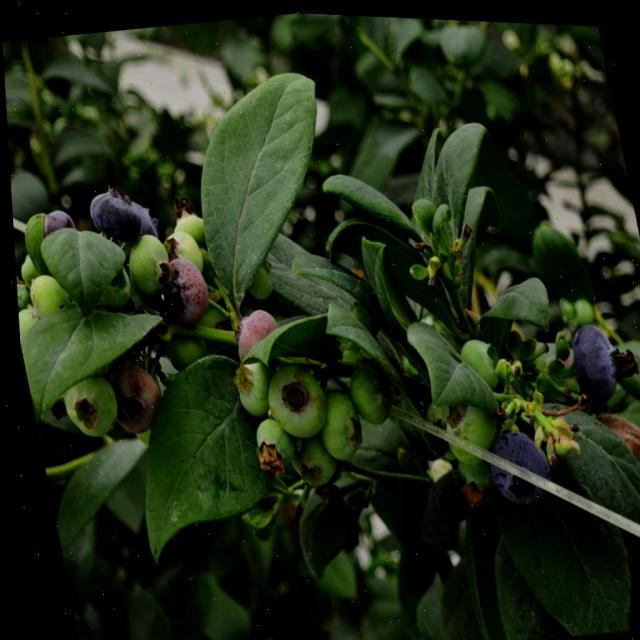RipeBlueBerry: (479, 420, 555, 508), (560, 313, 622, 402), (82, 180, 146, 246)
Semi-RipeBlueBerry: (97, 358, 165, 441), (152, 250, 212, 329)
UnripeBlueBerry: (256, 357, 328, 442), (53, 366, 118, 443), (118, 228, 176, 303)
